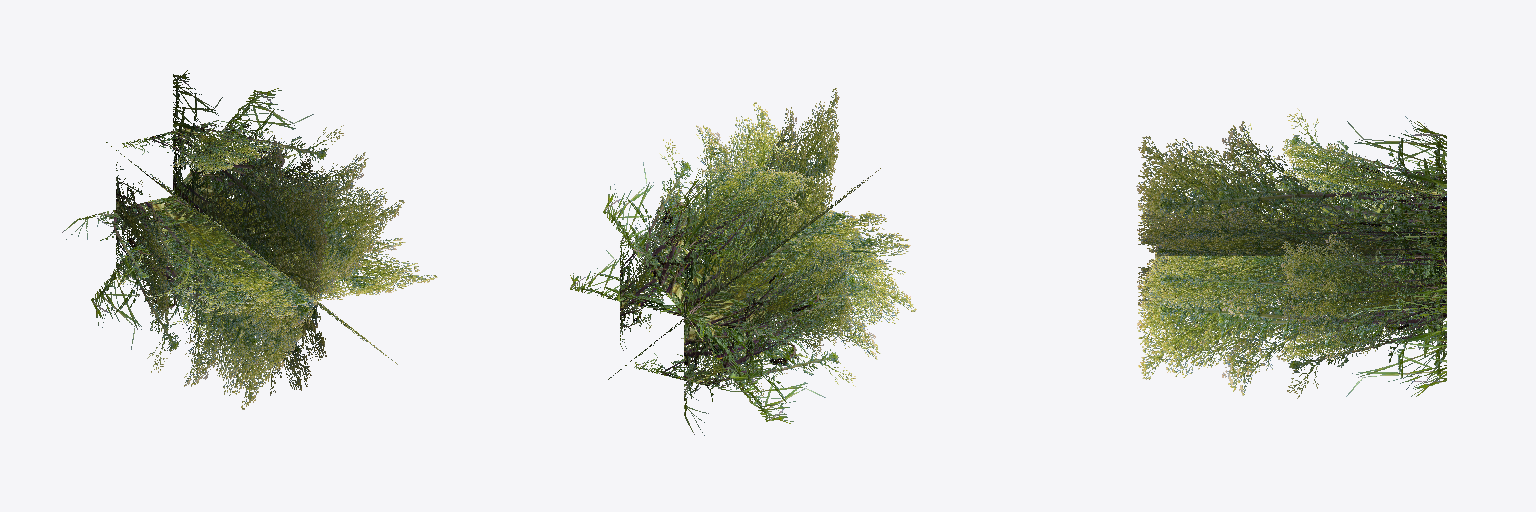
The picture shows the model from 3 angles: view 1: azimuth 30°, elevation 25°; view 2: azimuth 150°, elevation 25°; view 3: azimuth 270°, elevation 25°; orthographic projection.
Visible parts, largest first — view 1: Plane.002, Plane.001, Plane, Plane.004, Plane.007, Plane.006, Plane.003, Plane.008; view 2: Plane, Plane.001, Plane.004, Plane.002, Plane.006, Plane.007, Plane.008, Plane.005; view 3: Plane, Plane.003, Plane.008, Plane.001, Plane.004, Plane.002, Plane.007, Plane.005.
Boxes of the visible parts, x1,y1,x2,y2 form: Plane.002: [99, 88, 404, 379]; Plane.001: [62, 168, 437, 318]; Plane: [173, 70, 326, 395]; Plane.004: [91, 93, 370, 409]; Plane.007: [122, 119, 284, 174]; Plane.006: [116, 162, 168, 328]; Plane.003: [106, 142, 397, 364]; Plane.008: [241, 122, 339, 214]; Plane: [684, 88, 839, 435]; Plane.001: [570, 190, 910, 340]; Plane.004: [611, 133, 916, 423]; Plane.002: [603, 102, 882, 417]; Plane.006: [746, 238, 852, 386]; Plane.007: [637, 160, 816, 261]; Plane.008: [620, 183, 682, 350]; Plane.005: [634, 338, 794, 391]; Plane: [1136, 120, 1446, 398]; Plane.003: [1137, 108, 1446, 396]; Plane.008: [1281, 226, 1442, 355]; Plane.001: [1137, 198, 1446, 319]; Plane.004: [1137, 202, 1446, 299]; Plane.002: [1137, 205, 1446, 291]; Plane.007: [1282, 139, 1441, 212]; Plane.005: [1281, 302, 1442, 361].
Size of the model in its own units: 200 by 200 by 200.
1 materials, 1 textured.